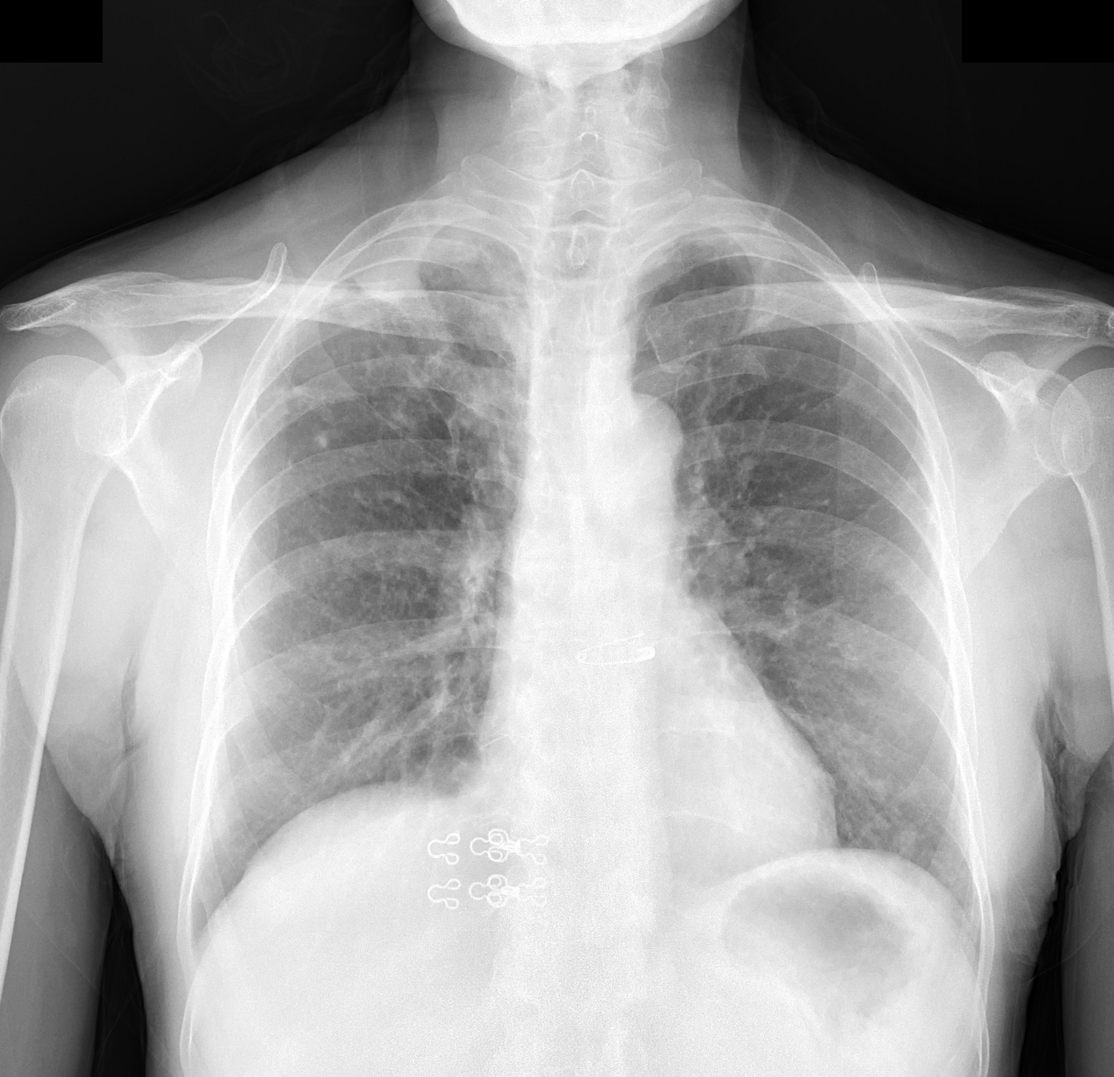Pleural thickening: (289, 219, 490, 321)
